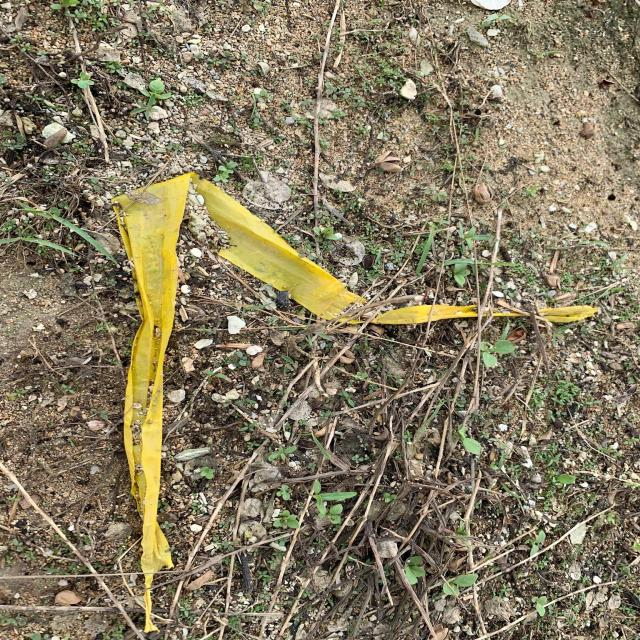litter: (87, 153, 621, 626)
